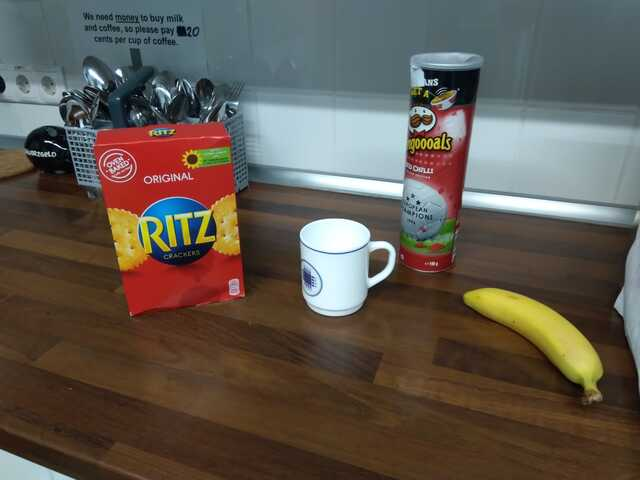001_chips_can: (397, 50, 484, 278)
003_cracker_box: (93, 121, 247, 317)
011_banana: (464, 285, 606, 406)
025_mug: (296, 217, 397, 321)
